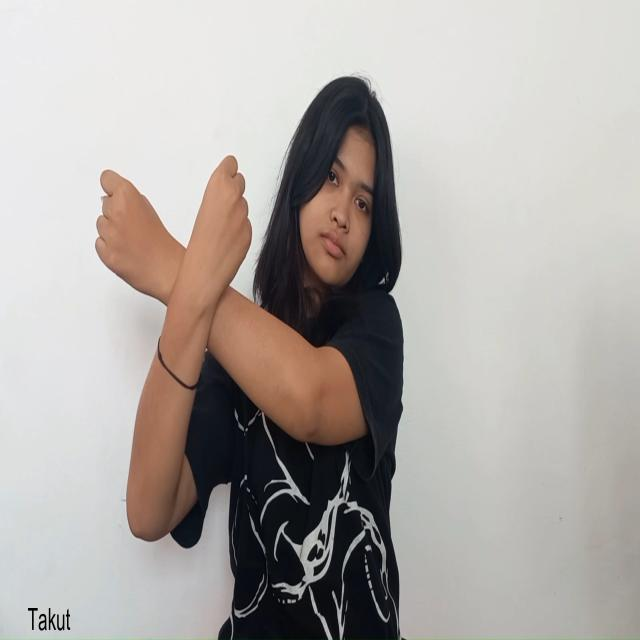Takut -BISINDO-: (93, 151, 254, 330)
